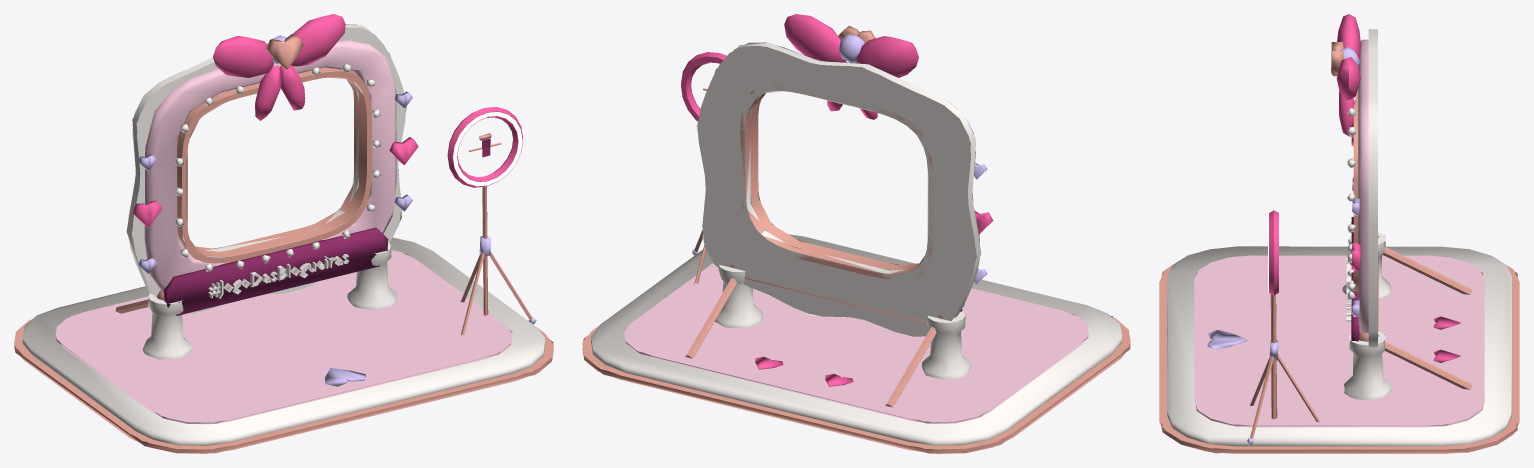
File: lite_photo_spot_frame.glb
The picture shows the model from 3 angles, left to right: view 1: azimuth 30°, elevation 25°; view 2: azimuth 150°, elevation 25°; view 3: azimuth 270°, elevation 25°; orthographic projection. The views are drawn at different scales.
Parts seen in each view (by area): view 1: photo_spot_frame; view 2: photo_spot_frame; view 3: photo_spot_frame.
Part boxes in pixels (x1,y1,x2,y2): photo_spot_frame: [14, 14, 553, 453]; photo_spot_frame: [582, 14, 1130, 453]; photo_spot_frame: [1159, 14, 1519, 453].
Size of the model in its own units: 5.05 by 3.71 by 3.85.
